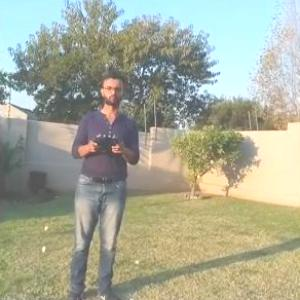follow: (55, 67, 144, 299)
